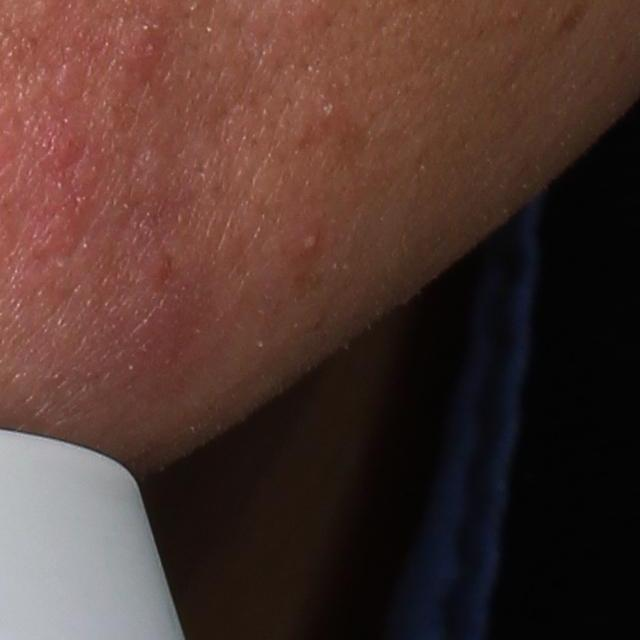pustule: (293, 217, 329, 257)
